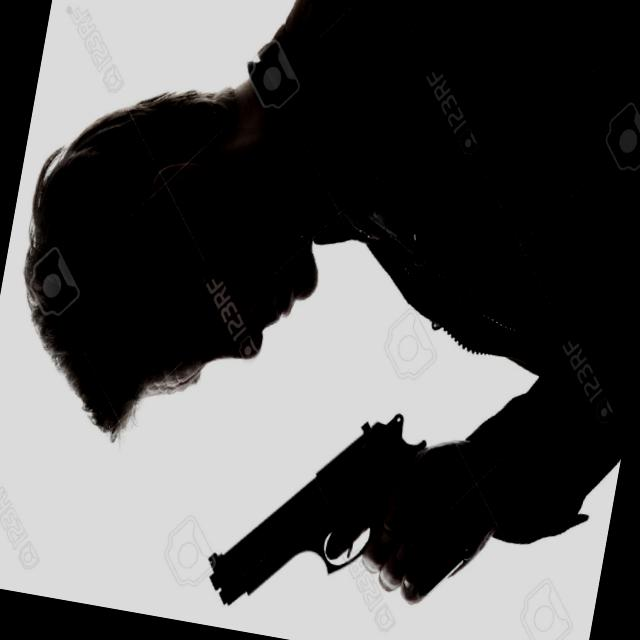handgun: (195, 375, 492, 639)
